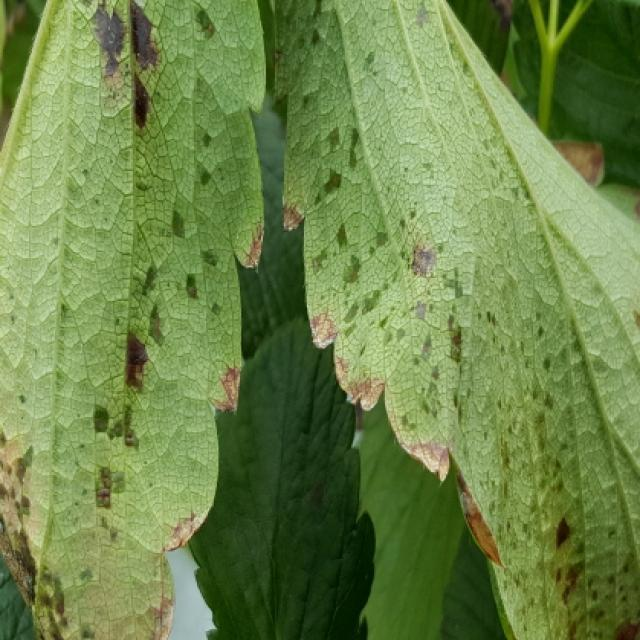Angular Leafspot: (272, 0, 638, 638)
